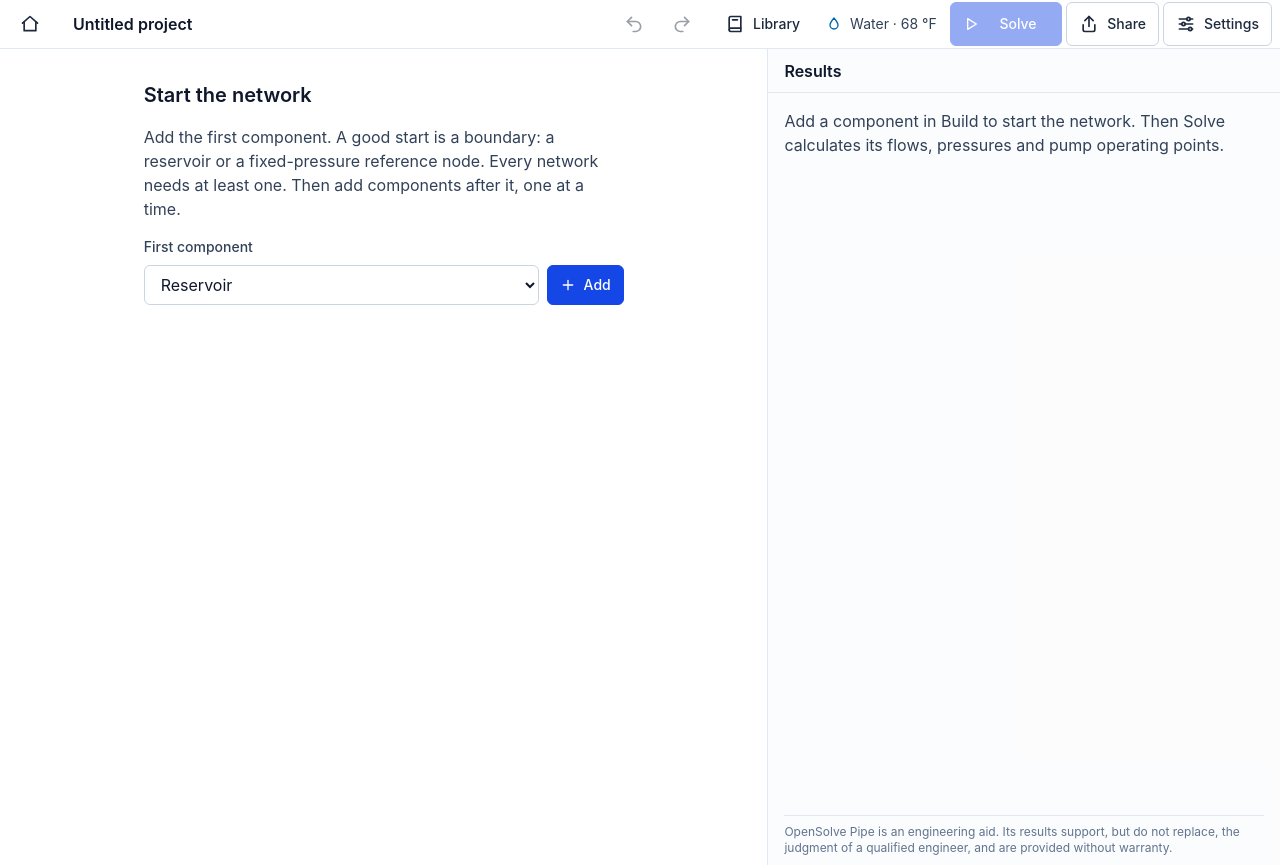
Scenario: component actions › adds a common kind in one step from the dialog, the kind added last first
Click the button "Add" at (585, 285), box top-left (547, 265), bottom-right (624, 305)
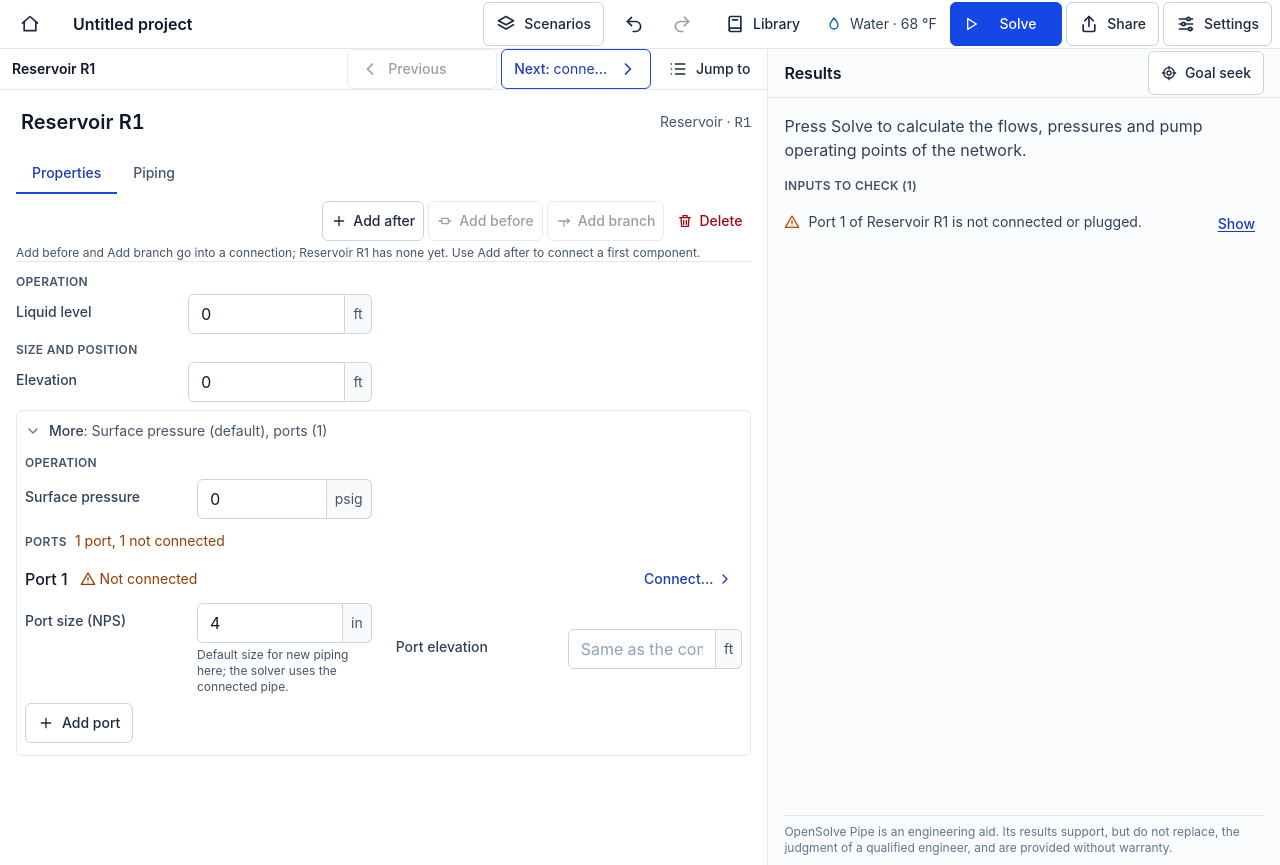
Click the button "Add after" at (373, 221), box top-left (322, 201), bottom-right (424, 241)
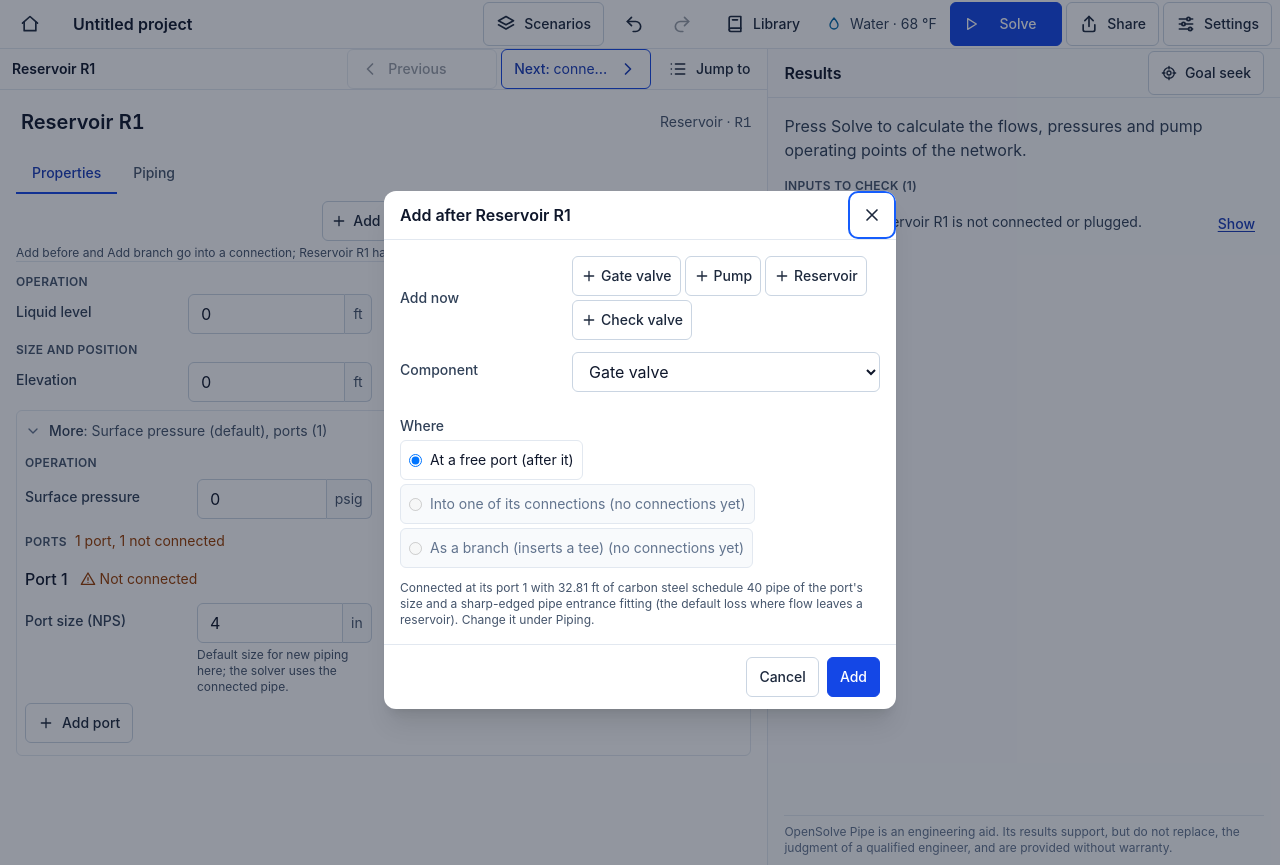
Click the button "Pump" at (723, 276), box top-left (684, 256), bottom-right (761, 296)
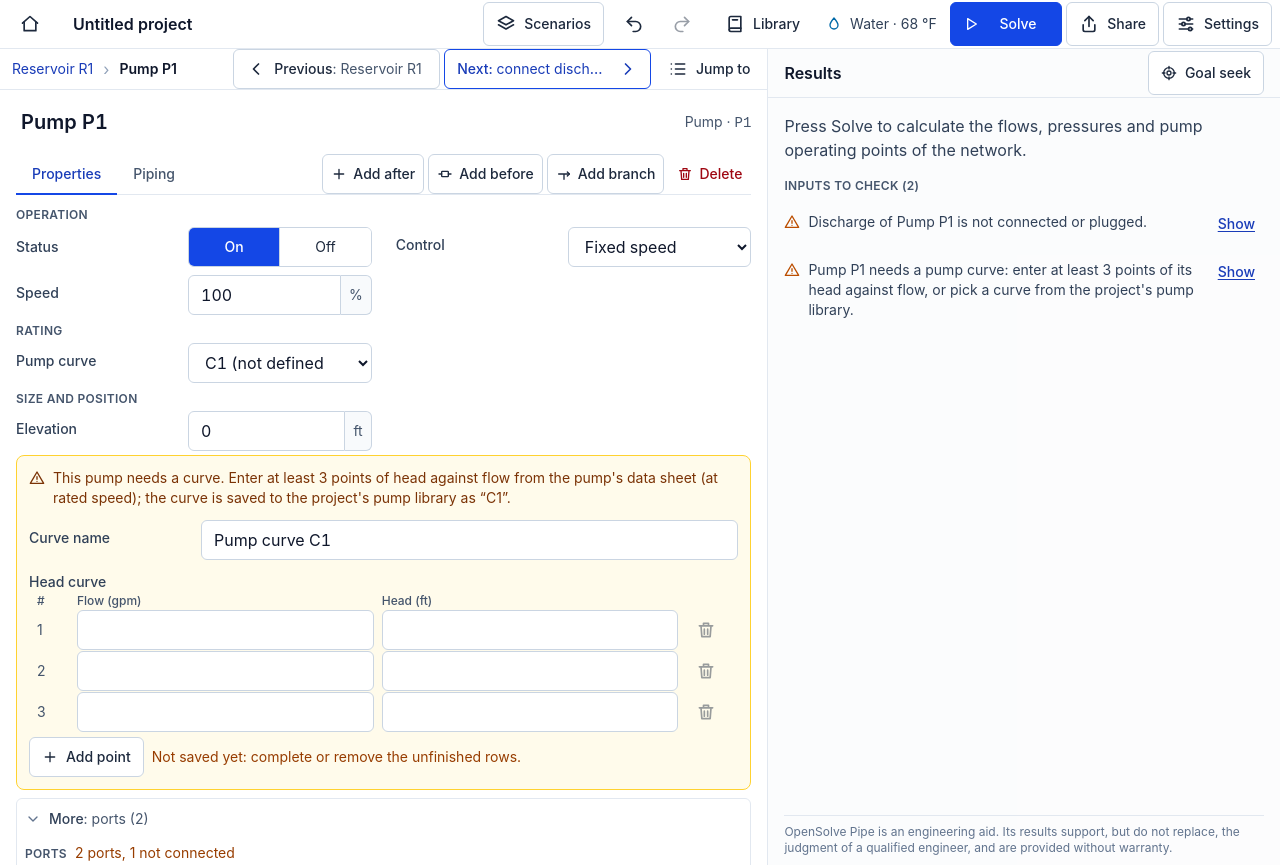
Check: the dialog is gone
Check: the button "Pump P1" is shown, box top-left (112, 49), bottom-right (185, 89)
Click the button "Add after" at (373, 174), box top-left (322, 154), bottom-right (424, 194)
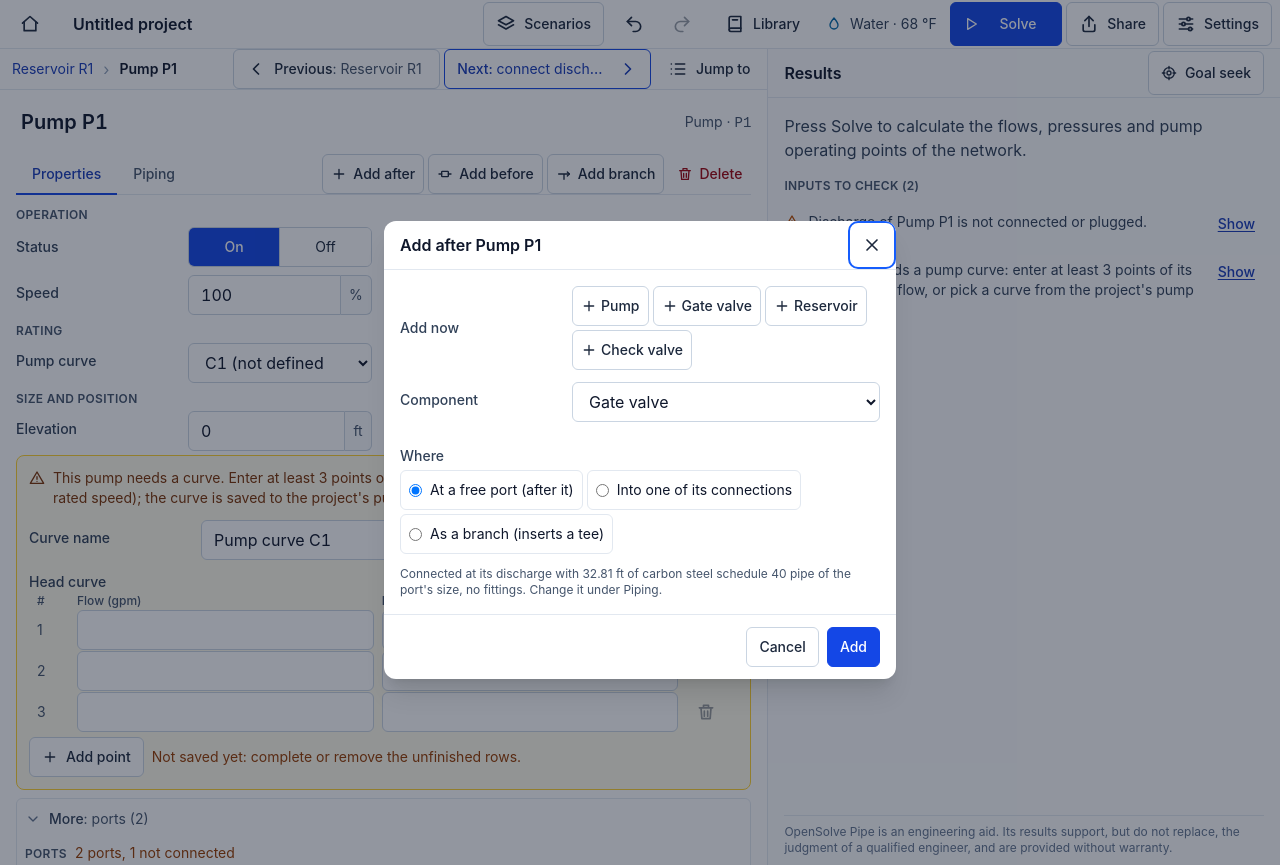
Check: the button "Pump" is shown, box top-left (572, 286), bottom-right (648, 326)
